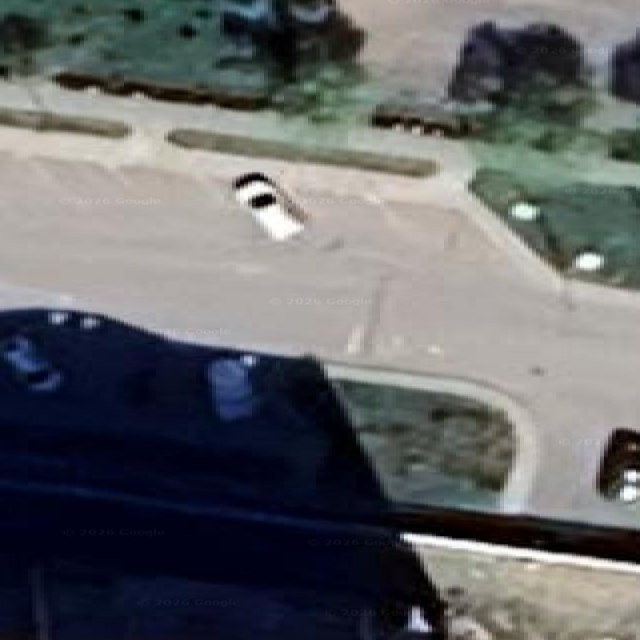car: (0, 308, 444, 639), (232, 172, 304, 239), (0, 333, 60, 391), (0, 604, 32, 631), (8, 354, 27, 369), (33, 356, 39, 362), (0, 628, 2, 633), (7, 377, 8, 380), (10, 351, 12, 352)
